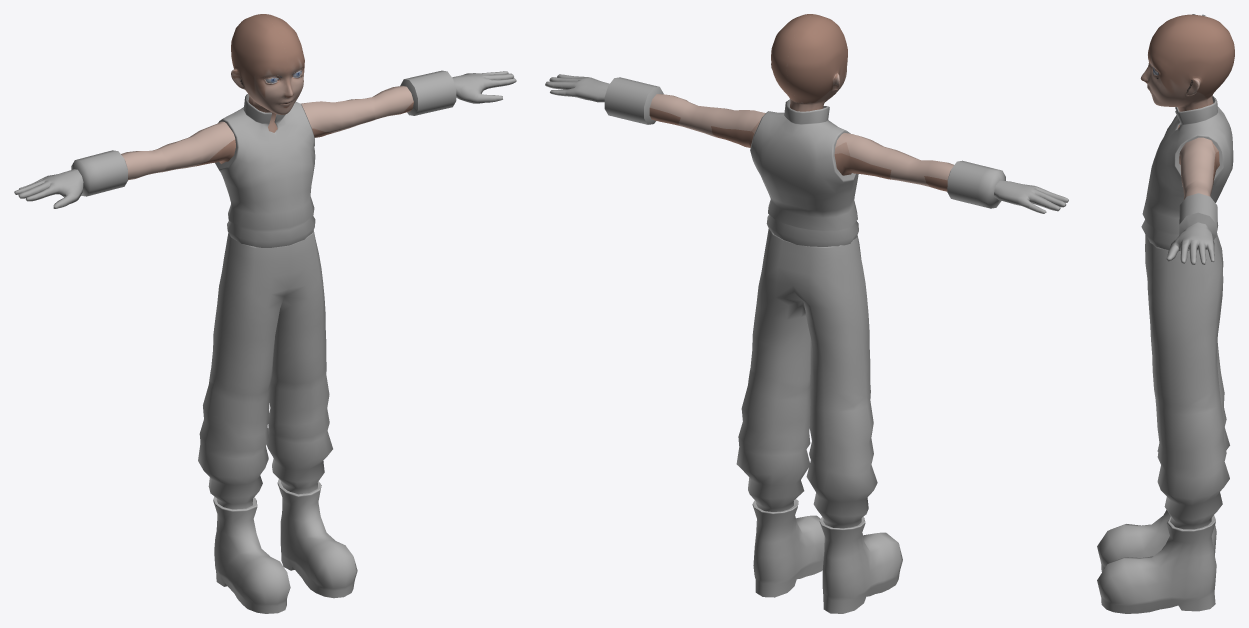
The model's file is oul_test4.fbx.
3 renders of one model, left to right at view 1: azimuth 30°, elevation 25°; view 2: azimuth 150°, elevation 25°; view 3: azimuth 270°, elevation 25°, orthographic. The views are drawn at different scales.
Parts seen in each view (by area): view 1: pants, vest, shoes, hands, arms, face; view 2: pants, vest, shoes, arms, hands, face; view 3: pants, shoes, face, vest, hands, arms.
Boxes of the visible parts, x1,y1,x2,y2 form: pants: [198, 230, 332, 509]; vest: [215, 94, 315, 247]; shoes: [213, 479, 357, 613]; hands: [14, 70, 516, 208]; arms: [121, 85, 413, 180]; face: [231, 14, 304, 132]; pants: [736, 229, 877, 528]; vest: [750, 99, 858, 246]; shoes: [752, 499, 902, 613]; arms: [649, 94, 953, 191]; hands: [545, 74, 1068, 213]; face: [771, 14, 847, 111]; pants: [1145, 233, 1229, 529]; shoes: [1097, 510, 1216, 613]; face: [1140, 14, 1234, 111]; vest: [1141, 95, 1233, 250]; hands: [1166, 14, 1217, 264]; arms: [1178, 95, 1219, 200].
Bounding box in the file's own units: 154 × 165 × 36.15.
